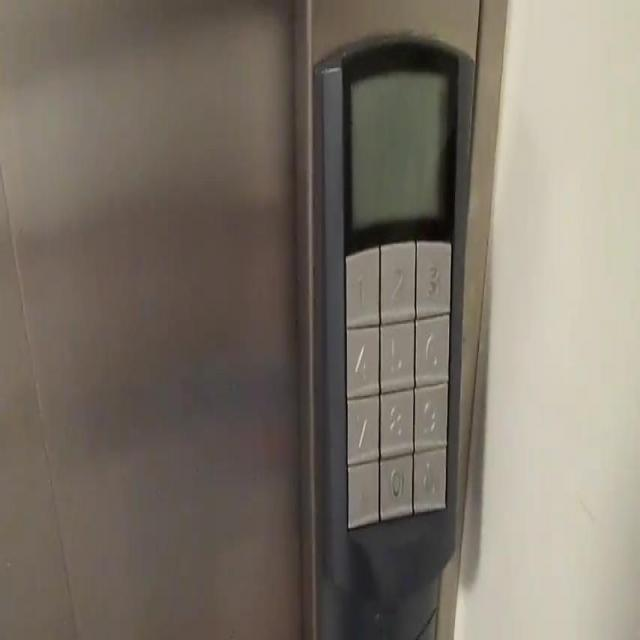0: (378, 449, 413, 523)
1: (343, 244, 380, 328)
2: (378, 237, 416, 327)
3: (414, 236, 452, 320)
4: (343, 322, 380, 398)
5: (378, 316, 416, 396)
6: (413, 308, 451, 389)
7: (344, 391, 381, 466)
8: (378, 384, 413, 460)
9: (413, 376, 449, 453)
CH: (412, 443, 448, 516)
empty: (345, 456, 380, 531)
